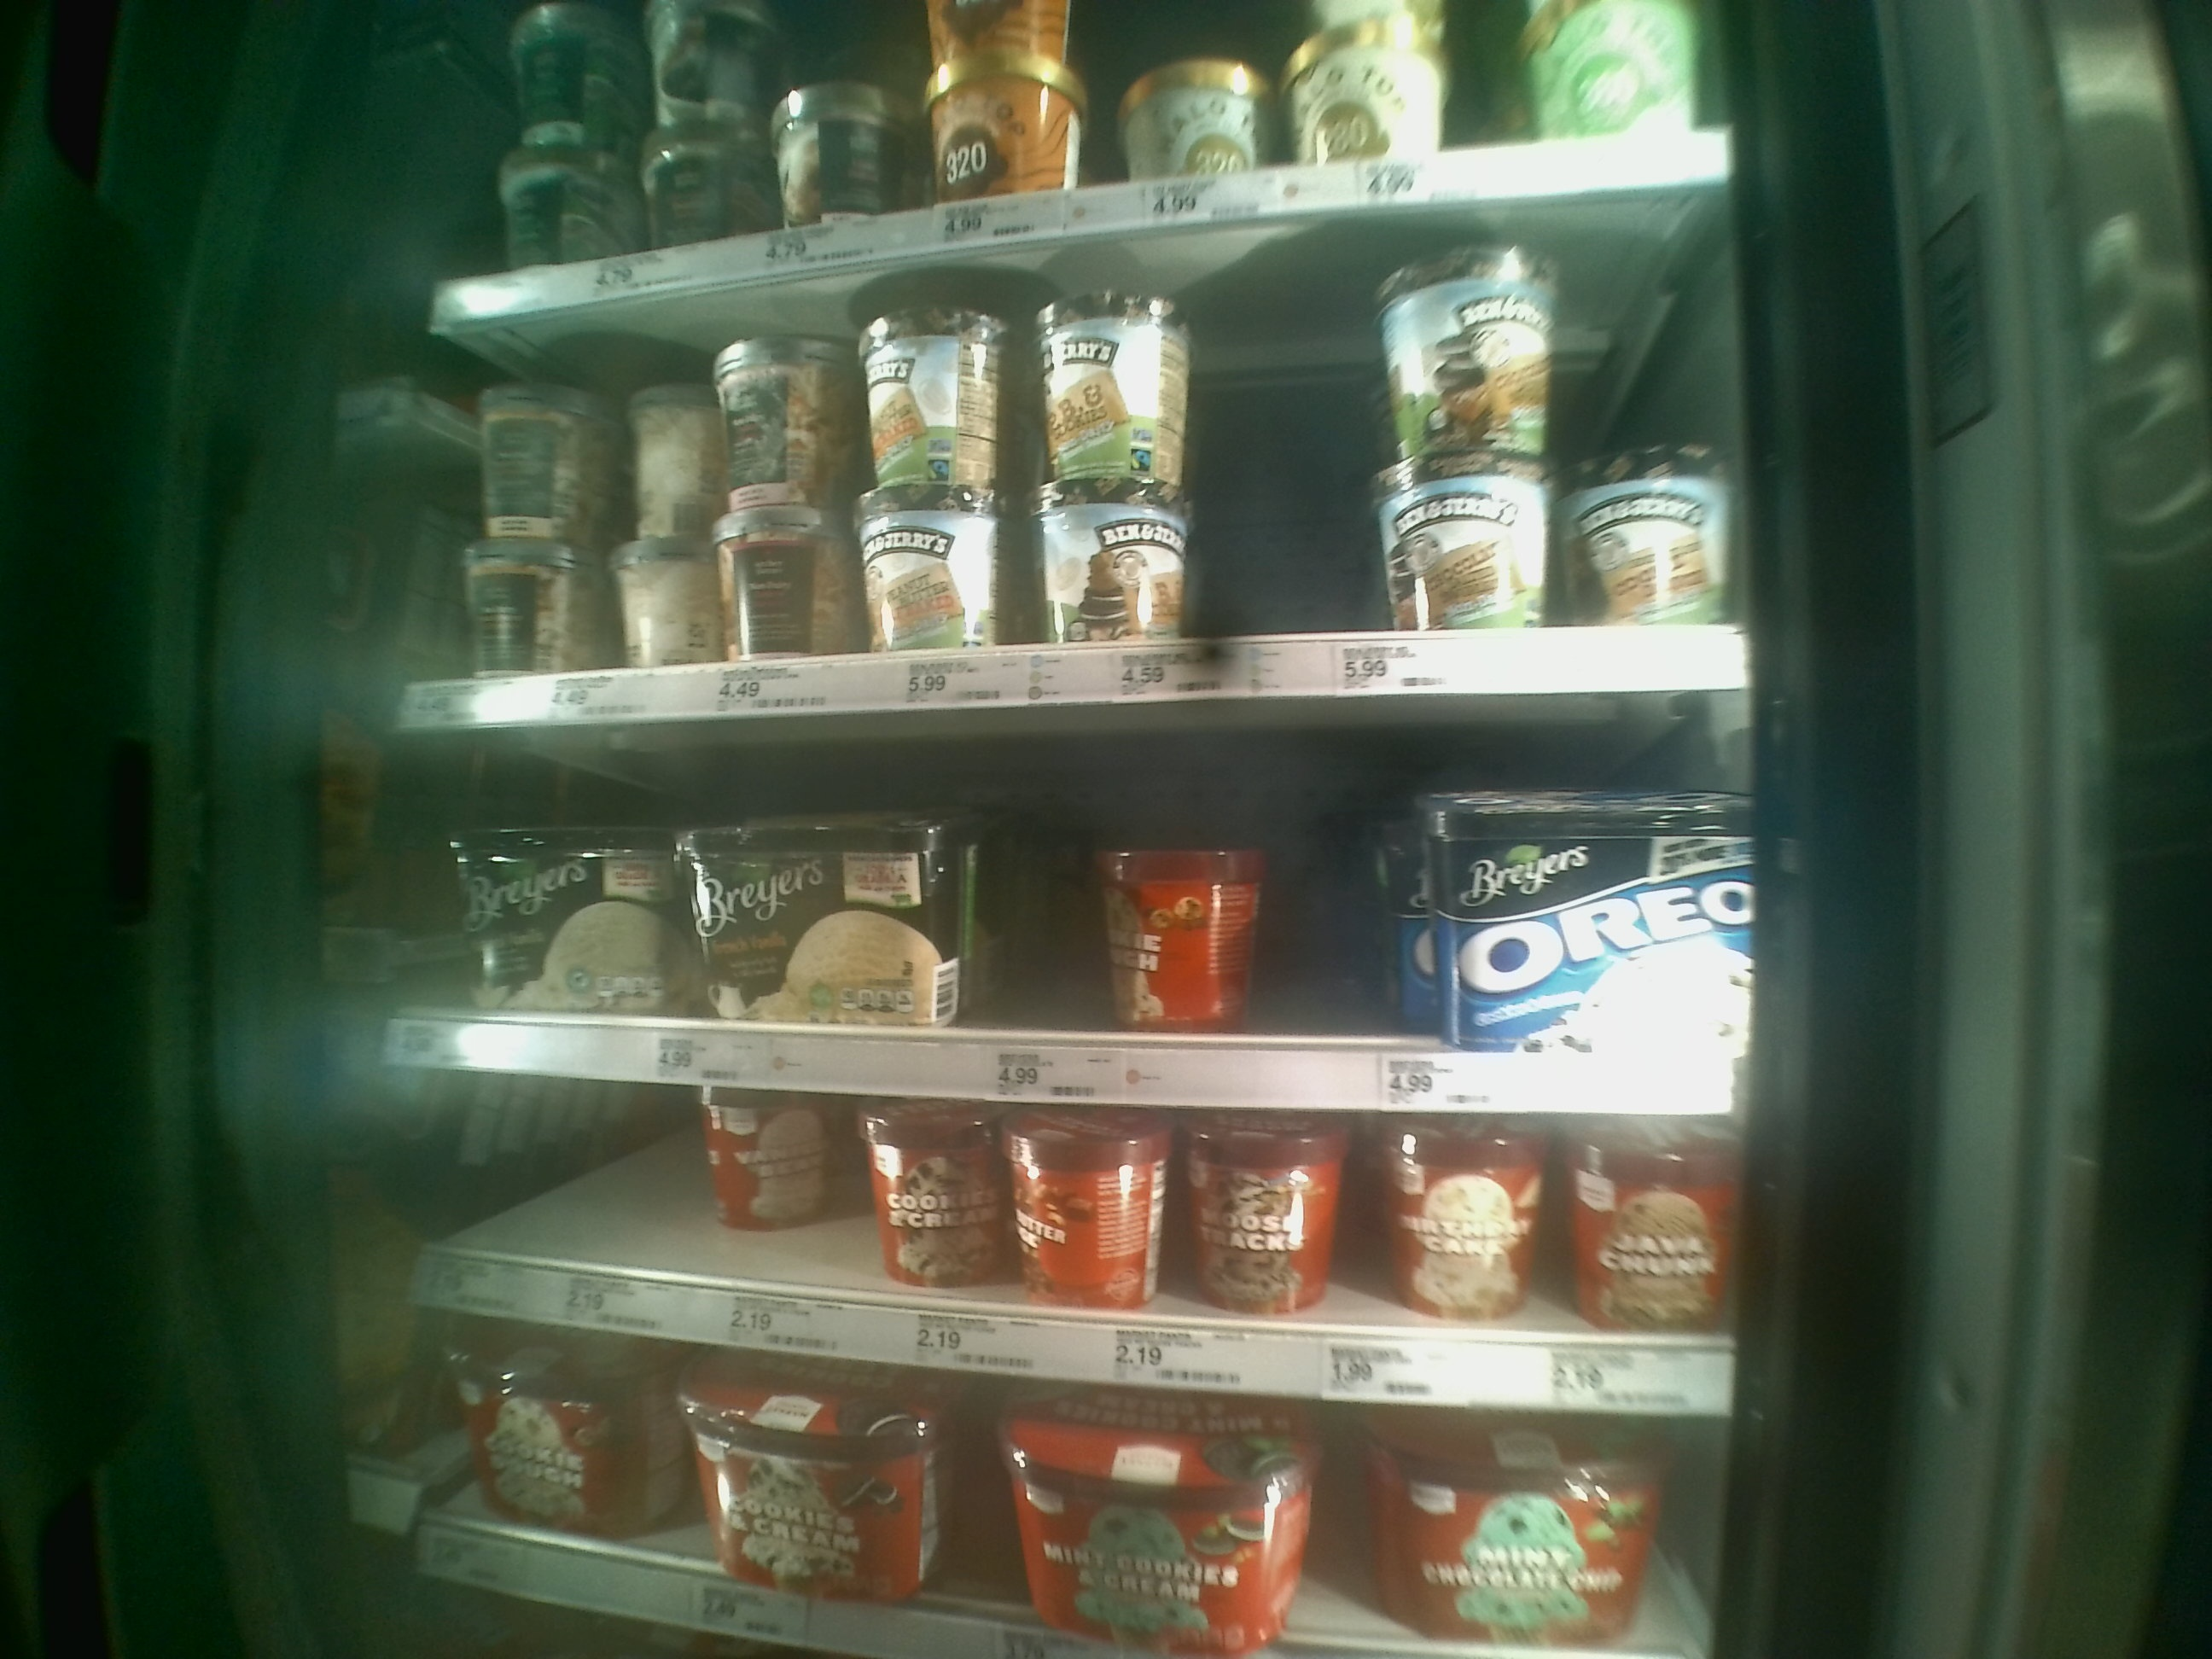ice-cream-shelf: (387, 739, 1743, 1119)
